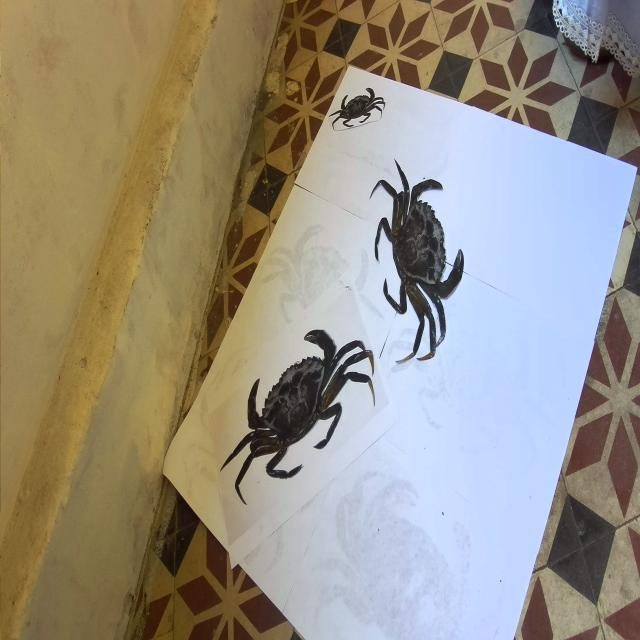European_Green_Crab: (206, 291, 385, 528), (359, 131, 476, 374), (327, 83, 387, 133)
